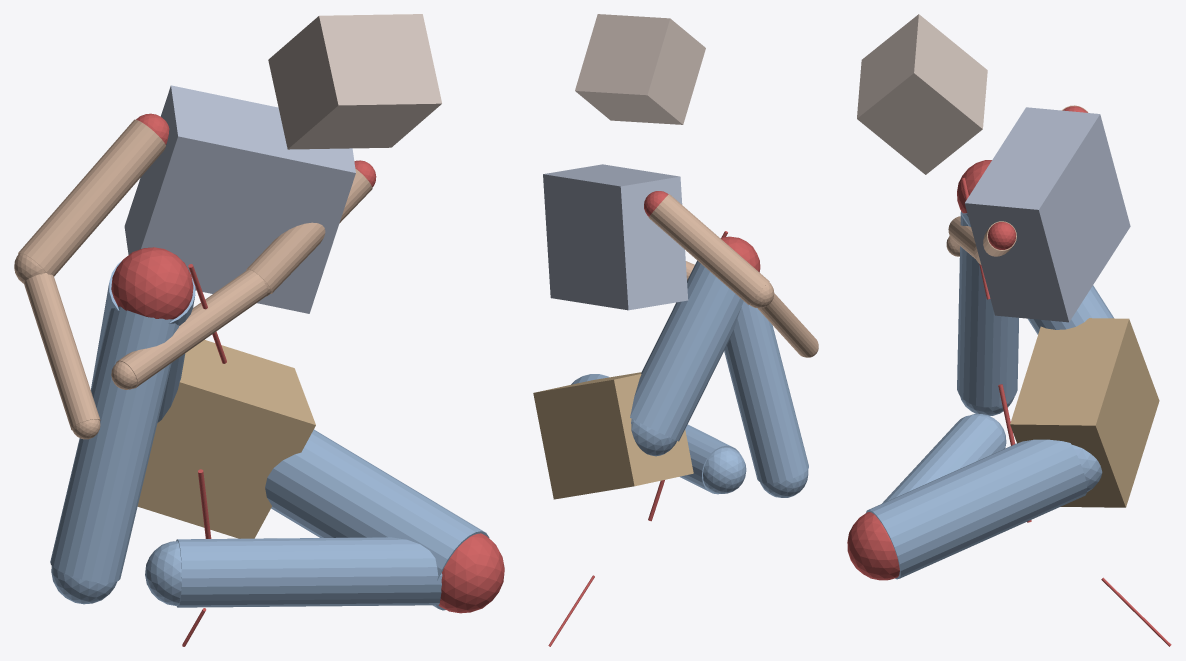
Rendered from front_maquette_modified_filtered.glb.
3 views of the same model, side by side, from view 1: azimuth 30°, elevation 25°; view 2: azimuth 150°, elevation 25°; view 3: azimuth 270°, elevation 25° (orthographic). The views are drawn at different scales.
Visible parts, largest first — view 1: world; view 2: world; view 3: world.
Part boxes in pixels (x1,y1,x2,y2): world: (14, 14, 504, 646); world: (533, 14, 818, 646); world: (847, 14, 1171, 646).
Size of the model in its own units: 0.6155 by 1.15 by 0.5363.
